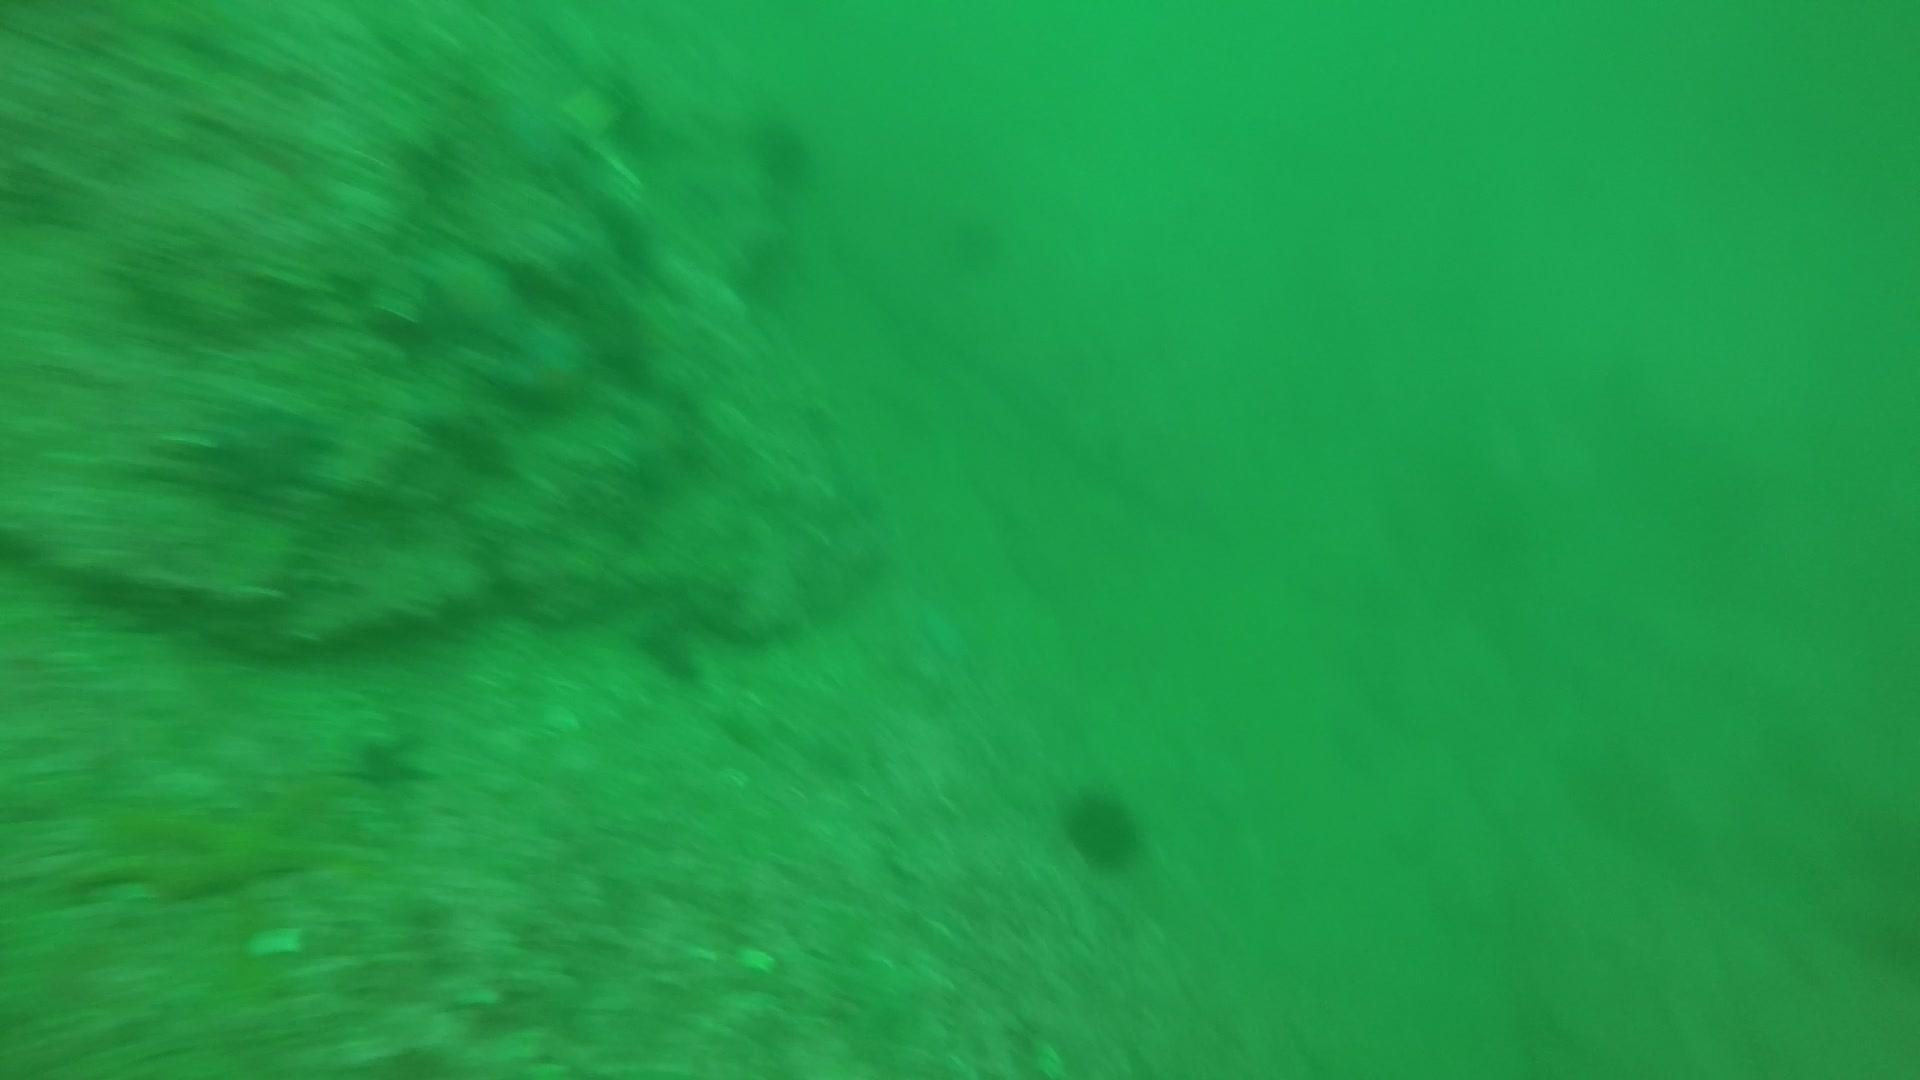echinus: (1055, 779, 1150, 876), (742, 105, 822, 190), (936, 199, 1015, 277)
starfish: (404, 241, 531, 352)
